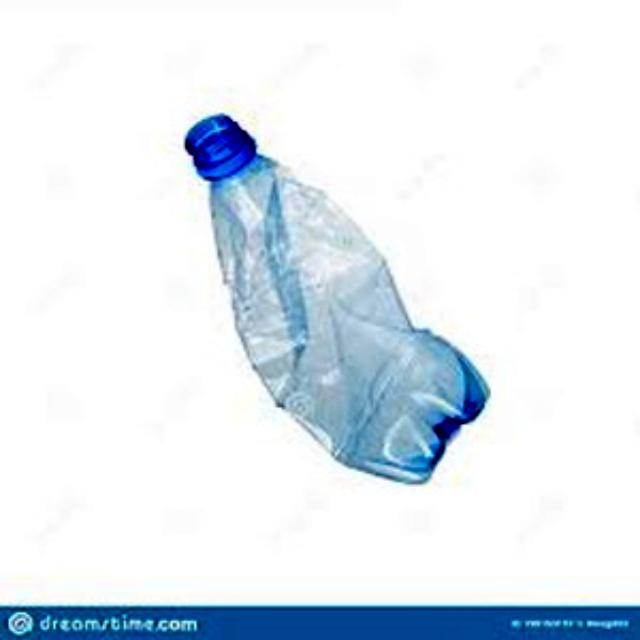Plastic: (183, 111, 492, 485)
